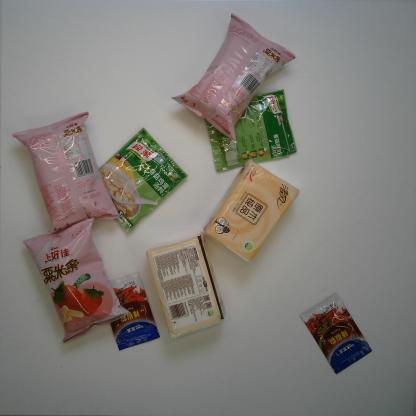Puffed Food: (171, 11, 297, 144), (22, 215, 131, 346), (12, 109, 121, 232)
Seasoner: (94, 126, 188, 234), (202, 87, 297, 174), (300, 292, 372, 376), (102, 271, 160, 352)
Tissue: (201, 158, 301, 263), (145, 234, 228, 342)
